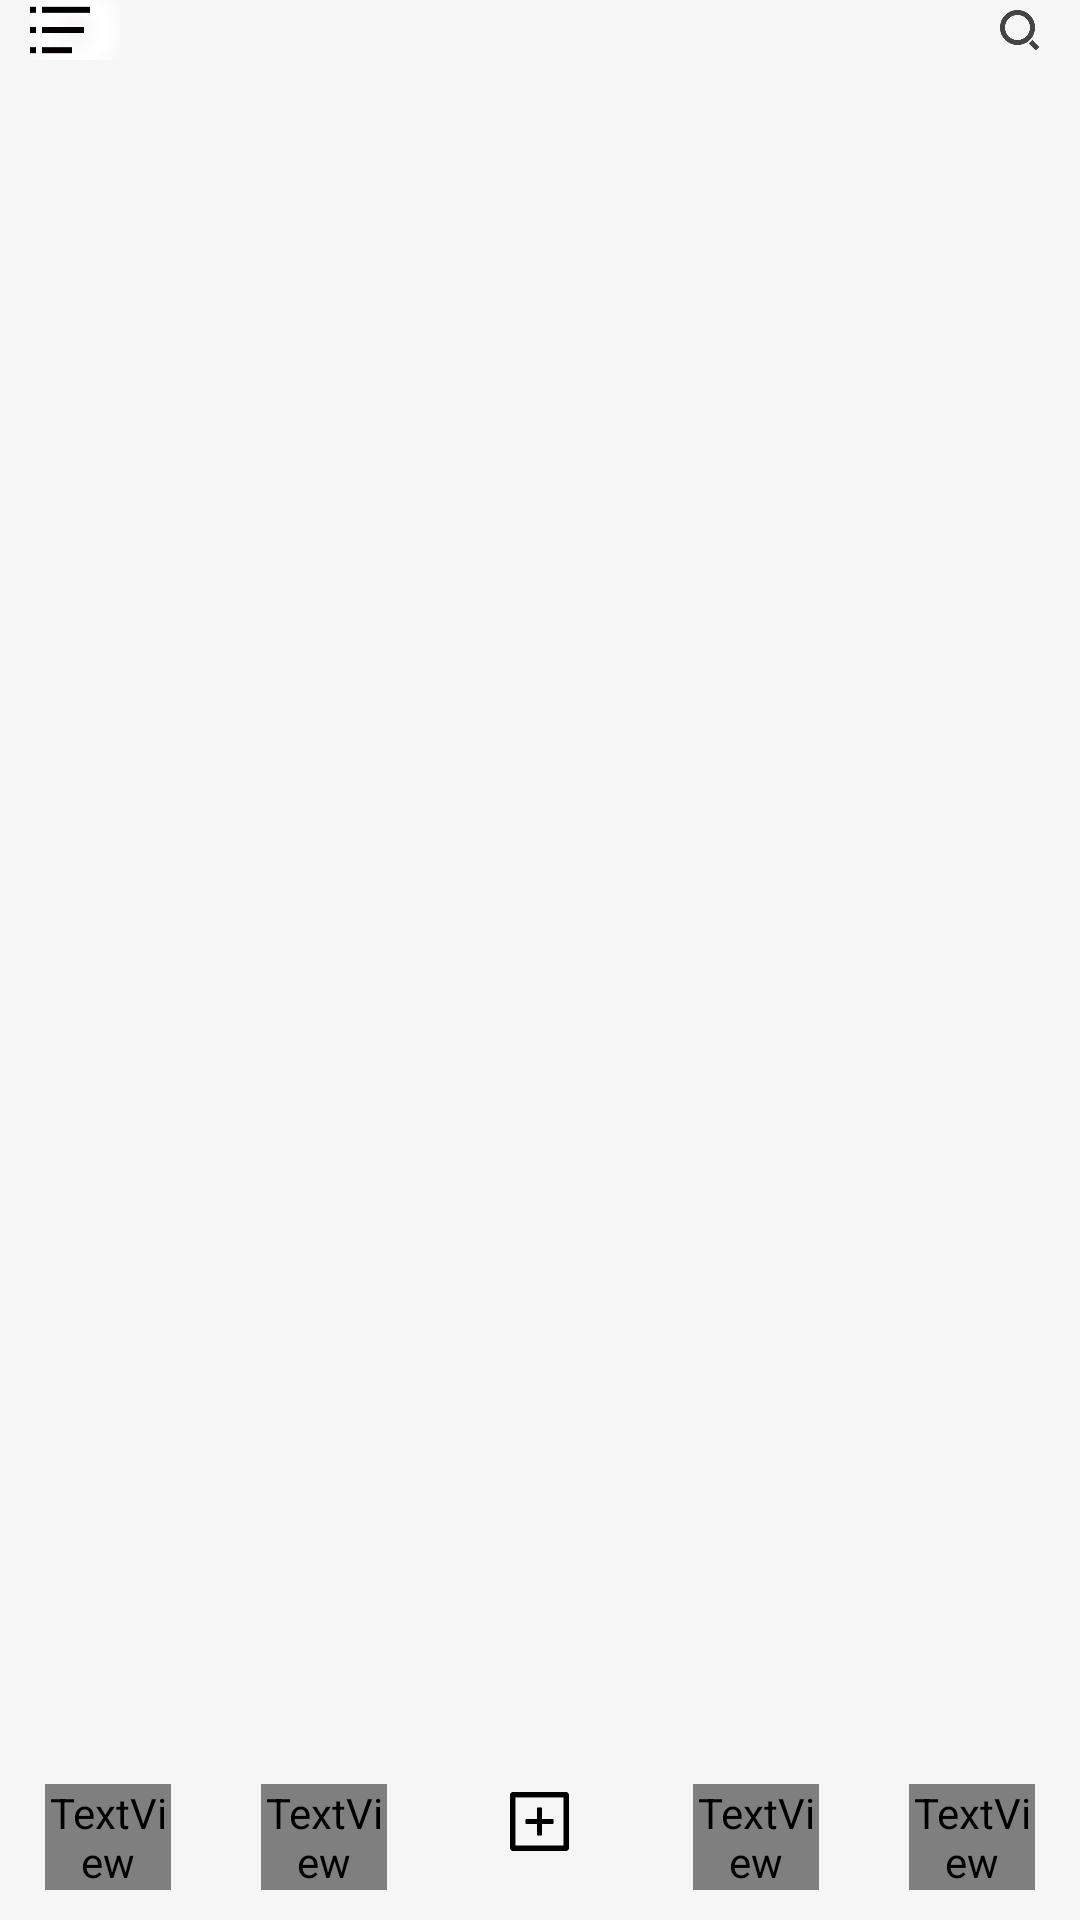

Icons on this 1080 x 1920 Android screen, each with the point to tap as (x,y):
dy add: (539,1821)
menu: (60,30)
search: (1019,30)
